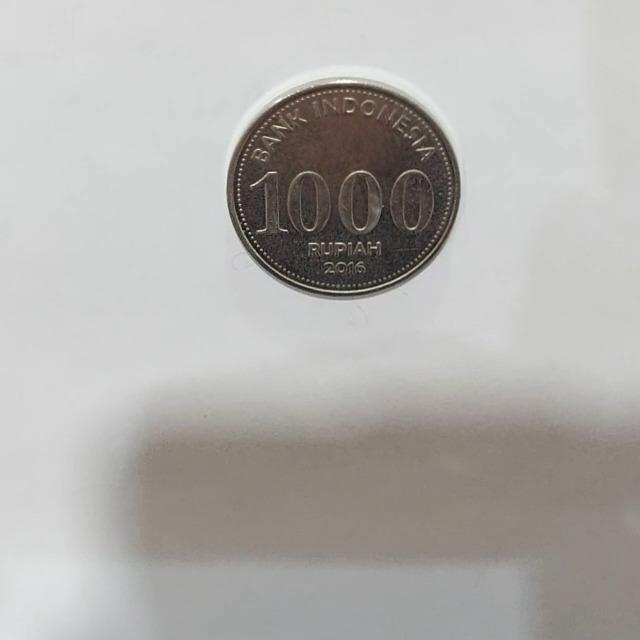Rp100: (224, 71, 461, 300)
